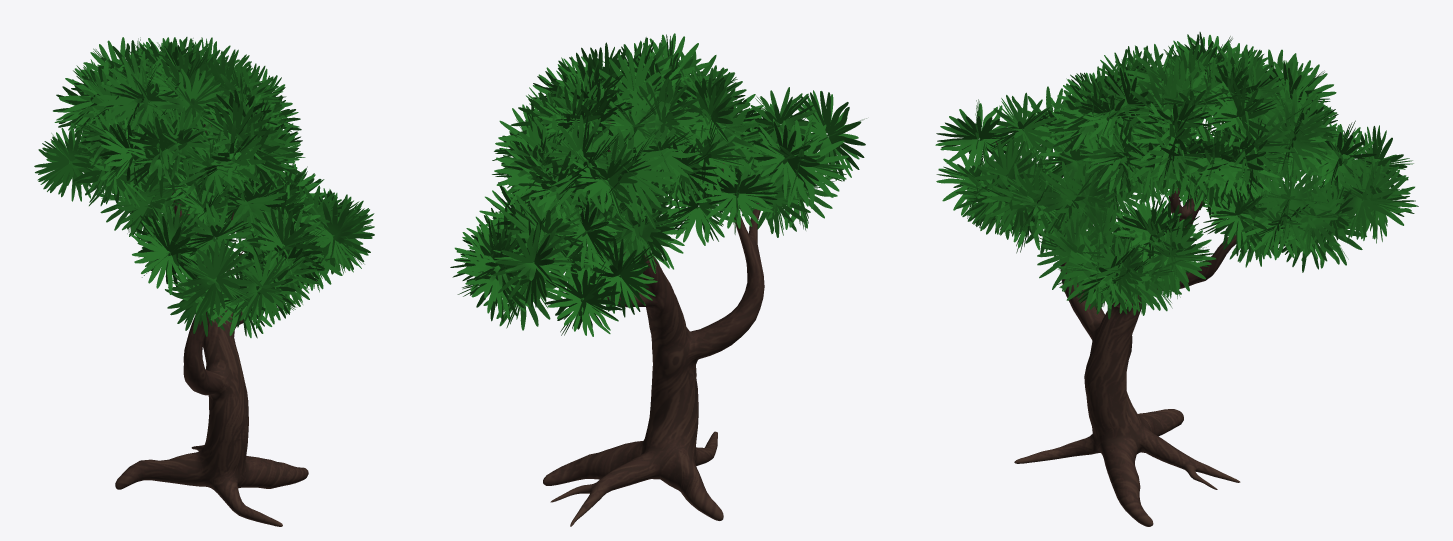
Rendered from Tree02_v2.fbx.
3 views of the same model, side by side, from view 1: azimuth 30°, elevation 25°; view 2: azimuth 150°, elevation 25°; view 3: azimuth 270°, elevation 25° (orthographic). The views are drawn at different scales.
Visible parts, largest first — view 1: Plane.002, Tree02_low.002; view 2: Plane.002, Tree02_low.002; view 3: Plane.002, Tree02_low.002.
Part boxes in pixels (x1,y1,x2,y2): Plane.002: (34,37,374,338); Tree02_low.002: (115,118,308,526); Plane.002: (450,33,866,336); Tree02_low.002: (543,121,775,526); Plane.002: (935,32,1418,319); Tree02_low.002: (995,110,1240,526).
Size of the model in its own units: 859 by 1206 by 1242.
